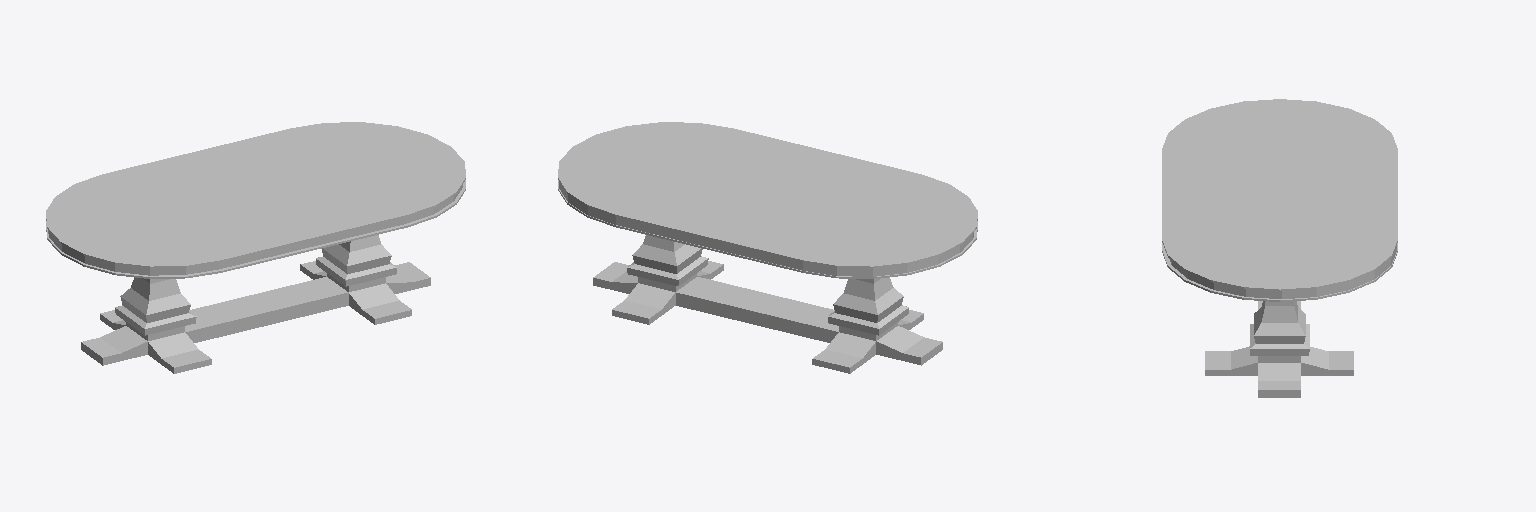
File: Table_RoundLarge.obj
3 views of the same model, side by side, from view 1: azimuth 30°, elevation 25°; view 2: azimuth 150°, elevation 25°; view 3: azimuth 270°, elevation 25° (orthographic).
Visible parts, largest first — view 1: Table_RoundLarge; view 2: Table_RoundLarge; view 3: Table_RoundLarge.
Boxes of the visible parts, box(x1,y1,x2,y2) form: Table_RoundLarge: box(46, 122, 465, 373); Table_RoundLarge: box(558, 122, 977, 373); Table_RoundLarge: box(1162, 99, 1397, 397).
Bounding box in the file's own units: 3.71 × 1.12 × 1.94.